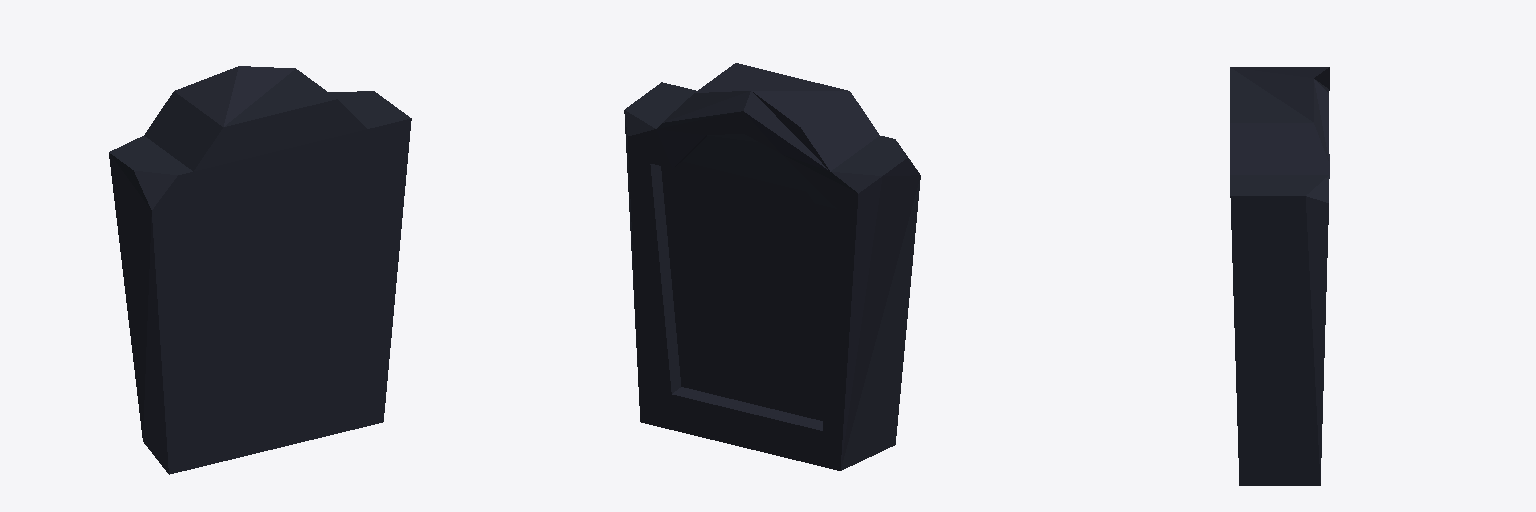
Rendered from Grave2.obj.
3 views of the same model, side by side, from view 1: azimuth 30°, elevation 25°; view 2: azimuth 150°, elevation 25°; view 3: azimuth 270°, elevation 25° (orthographic).
Visible parts, largest first — view 1: Gravestone.008; view 2: Gravestone.008; view 3: Gravestone.008.
Part boxes in pixels (bbox=[...]): Gravestone.008: bbox=[109, 66, 411, 474]; Gravestone.008: bbox=[624, 63, 920, 470]; Gravestone.008: bbox=[1230, 67, 1329, 485].
Bounding box in the file's own units: 1.68 × 2.18 × 0.5505.